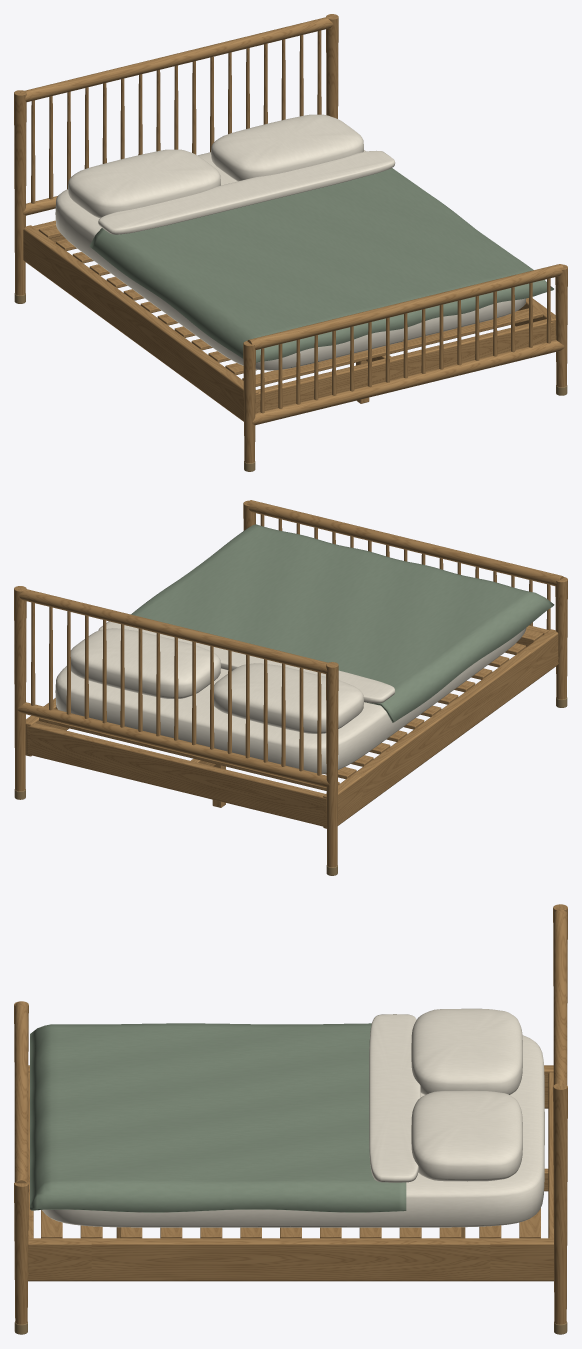
3 renders of one model, top to bottom at view 1: azimuth 30°, elevation 25°; view 2: azimuth 150°, elevation 25°; view 3: azimuth 270°, elevation 25°, orthographic. The views are drawn at different scales.
Parts seen in each view (by area): view 1: Bedding | softly draped quilt, Bed | substantial side rail, Bedding | folded return, Bedding | sewn pillow, Bedding | sewn pillow.001, Mattress | upholstered ticking, Bed | end bearer, End | rounded oak crossrail.003, End | rounded oak crossrail.001, End | rounded oak crossrail.002, Bed | sprung oak slat, Frame | tapered round post.001 (+3 smaller); view 2: Bedding | softly draped quilt, Mattress | upholstered ticking, Bed | end bearer.001, Bed | substantial side rail, Bedding | sewn pillow.001, Bedding | sewn pillow, End | rounded oak crossrail.003, End | rounded oak crossrail.001, End | rounded oak crossrail, Frame | tapered round post.001, Frame | tapered round post.003, Bedding | folded return (+11 smaller); view 3: Bedding | softly draped quilt, Bed | substantial side rail.001, Mattress | upholstered ticking, Bedding | sewn pillow.001, Bedding | sewn pillow, Bedding | folded return, Frame | tapered round post.003, End | rounded oak crossrail.003, End | rounded oak crossrail.001, Frame | tapered round post.002, Bed | end bearer.001.
Boxes of the visible parts, left/top/right/bottom form: Bedding | softly draped quilt: left=89, top=168, right=553, bottom=362; Bed | substantial side rail: left=23, top=225, right=258, bottom=421; Bedding | folded return: left=98, top=150, right=395, bottom=234; Bedding | sewn pillow: left=68, top=149, right=220, bottom=218; Bedding | sewn pillow.001: left=211, top=114, right=363, bottom=181; Mattress | upholstered ticking: left=55, top=150, right=526, bottom=370; Bed | end bearer: left=255, top=319, right=555, bottom=413; End | rounded oak crossrail.003: left=247, top=264, right=563, bottom=349; End | rounded oak crossrail.001: left=20, top=16, right=333, bottom=102; End | rounded oak crossrail.002: left=252, top=340, right=564, bottom=425; Bed | sprung oak slat: left=242, top=307, right=542, bottom=386; Frame | tapered round post.001: left=14, top=90, right=26, bottom=295; Bedding | softly draped quilt: left=131, top=524, right=554, bottom=722; Mattress | upholstered ticking: left=55, top=628, right=526, bottom=773; Bed | end bearer.001: left=26, top=723, right=326, bottom=826; Bed | substantial side rail: left=323, top=629, right=558, bottom=828; Bedding | sewn pillow.001: left=70, top=628, right=220, bottom=698; Bedding | sewn pillow: left=214, top=663, right=363, bottom=733; End | rounded oak crossrail.003: left=247, top=500, right=563, bottom=585; End | rounded oak crossrail.001: left=19, top=588, right=332, bottom=673; End | rounded oak crossrail: left=17, top=702, right=329, bottom=787; Frame | tapered round post.001: left=326, top=662, right=338, bottom=867; Frame | tapered round post.003: left=14, top=586, right=26, bottom=791; Bedding | folded return: left=98, top=621, right=395, bottom=703; Bedding | softly draped quilt: left=30, top=1023, right=406, bottom=1212; Bed | substantial side rail.001: left=28, top=1238, right=553, bottom=1281; Mattress | upholstered ticking: left=42, top=1035, right=544, bottom=1227; Bedding | sewn pillow.001: left=411, top=1090, right=522, bottom=1181; Bedding | sewn pillow: left=411, top=1008, right=522, bottom=1094; Bedding | folded return: left=369, top=1014, right=420, bottom=1182; Frame | tapered round post.003: left=553, top=1083, right=567, bottom=1324; End | rounded oak crossrail.003: left=14, top=1001, right=28, bottom=1183; End | rounded oak crossrail.001: left=553, top=907, right=567, bottom=1085; Frame | tapered round post.002: left=14, top=1182, right=28, bottom=1324; Bed | end bearer.001: left=548, top=1072, right=553, bottom=1238.
Size of the model in its own units: 1.7 by 1.06 by 2.15.
Materials: 4 (3 with a texture image).
